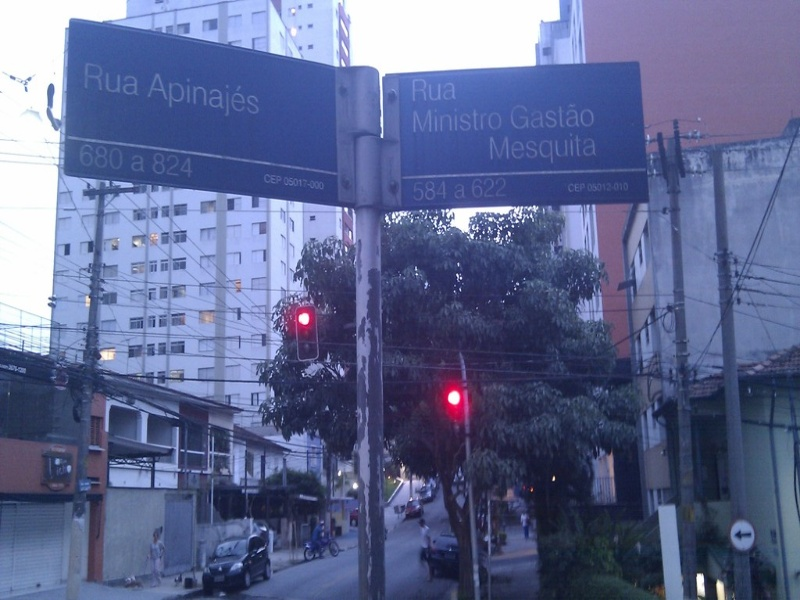left_direction: (732, 525, 754, 541)
red_light: (438, 384, 468, 408), (293, 305, 313, 329)
